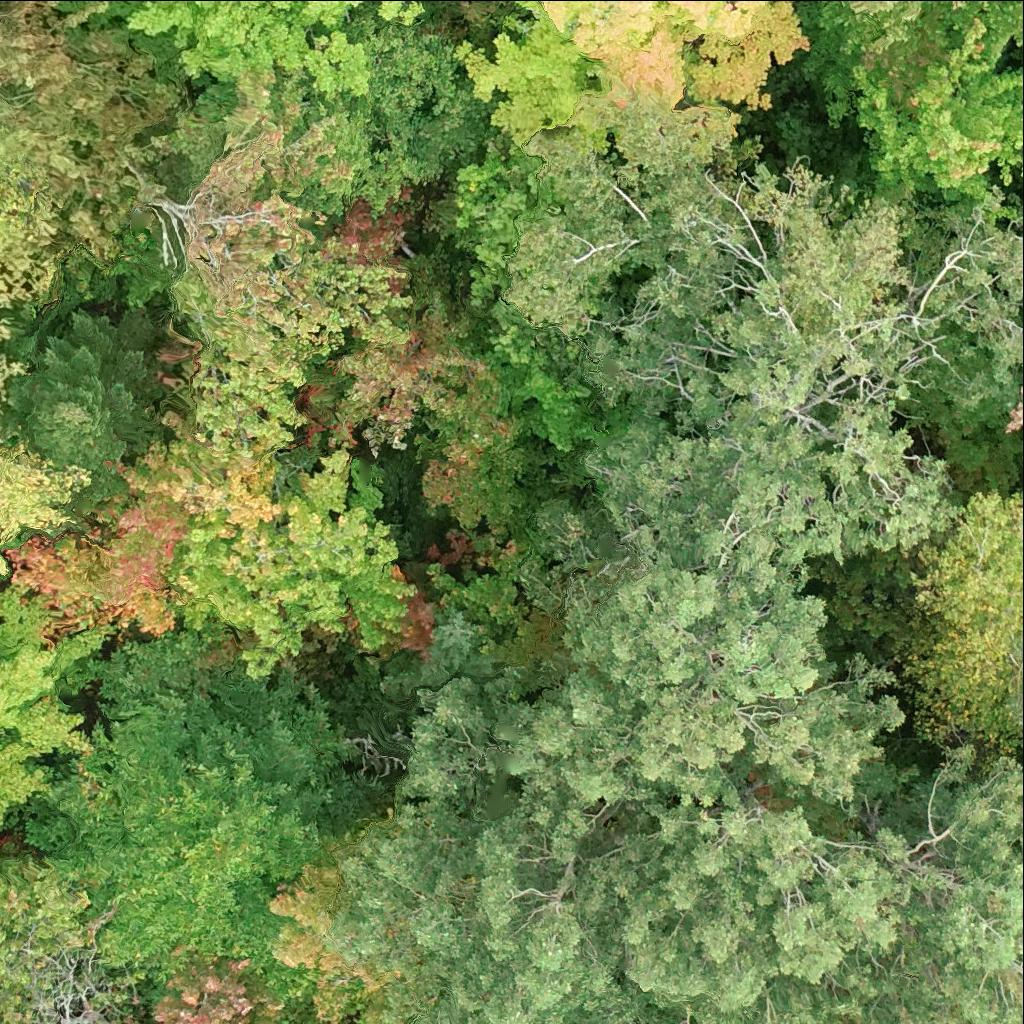crown: (122, 0, 506, 546), (582, 163, 1023, 595), (27, 613, 387, 1023), (518, 505, 907, 806), (325, 818, 699, 1023), (383, 652, 736, 862), (600, 794, 922, 1023), (453, 0, 809, 170), (167, 452, 433, 675), (502, 106, 722, 338), (859, 742, 1023, 1023), (825, 17, 1023, 241), (904, 493, 1023, 762), (54, 0, 366, 95), (0, 486, 193, 637), (2, 304, 155, 489), (0, 589, 114, 823), (327, 290, 487, 454), (268, 864, 396, 1023), (411, 370, 527, 534), (0, 857, 92, 1023), (816, 0, 1023, 63), (151, 948, 285, 1023), (0, 449, 91, 543), (431, 606, 473, 668), (347, 735, 401, 775), (0, 559, 40, 606), (372, 0, 415, 30), (0, 357, 24, 389), (1016, 673, 1023, 724), (0, 551, 8, 575)
